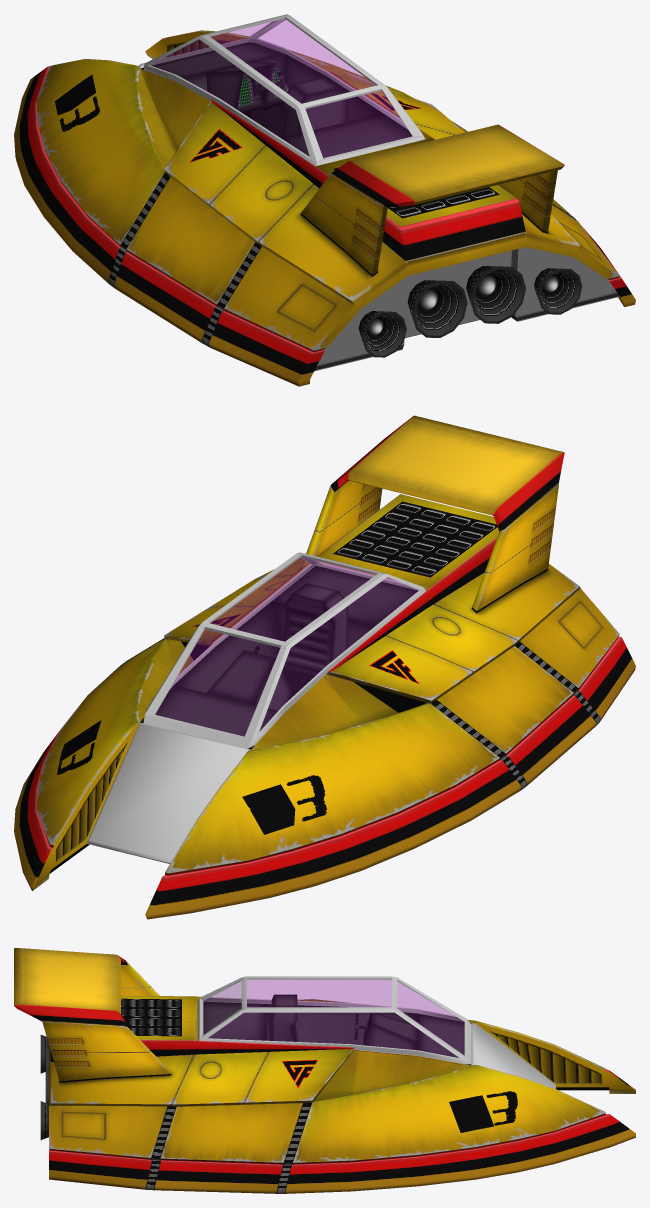
The model's file is GoldenFox.fbx.
The picture shows the model from 3 angles, top to bottom: view 1: azimuth 30°, elevation 25°; view 2: azimuth 150°, elevation 25°; view 3: azimuth 270°, elevation 25°; orthographic projection. The views are drawn at different scales.
Visible parts, largest first — view 1: 03_goldenfox_a; view 2: 03_goldenfox_a; view 3: 03_goldenfox_a.
Part boxes in pixels (box(x1,y1,x2,y2)): 03_goldenfox_a: box(14, 14, 635, 386); 03_goldenfox_a: box(14, 415, 635, 919); 03_goldenfox_a: box(14, 948, 635, 1193).
Size of the model in its own units: 254 by 106 by 426.
